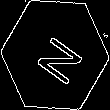N_NW: (26, 24, 84, 86)
